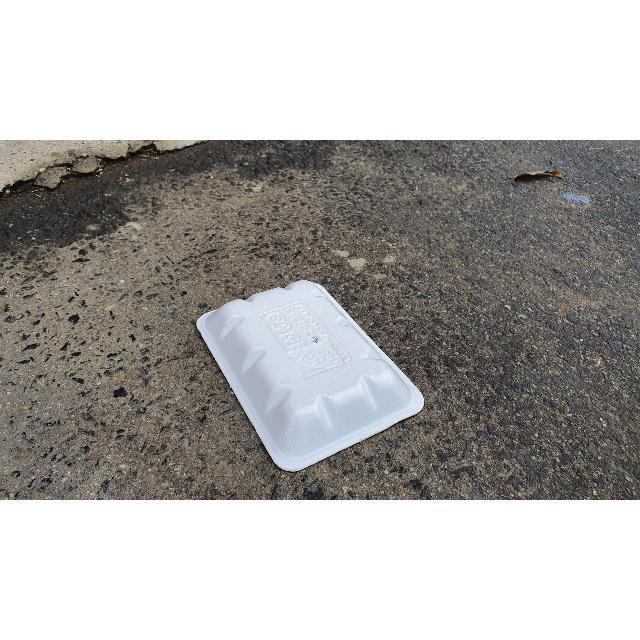Plastico descartable: (194, 281, 426, 473)
